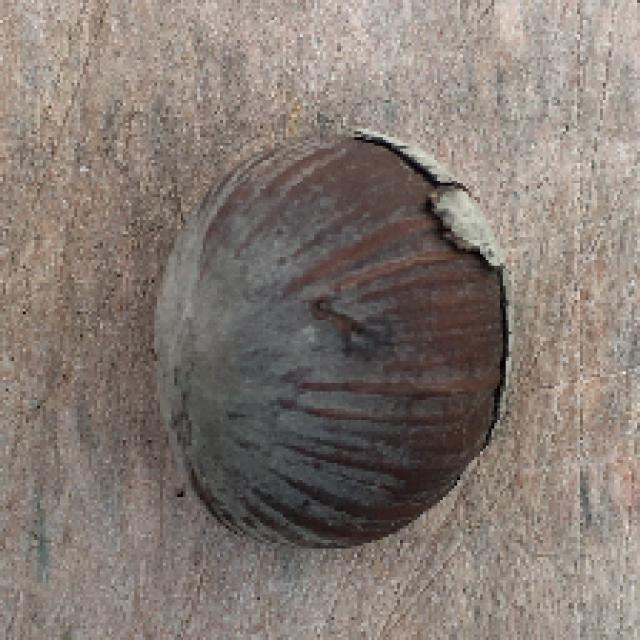damagedHazelnut: (149, 128, 520, 554)
